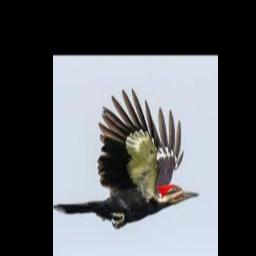Woodpecker: (54, 88, 201, 229)
